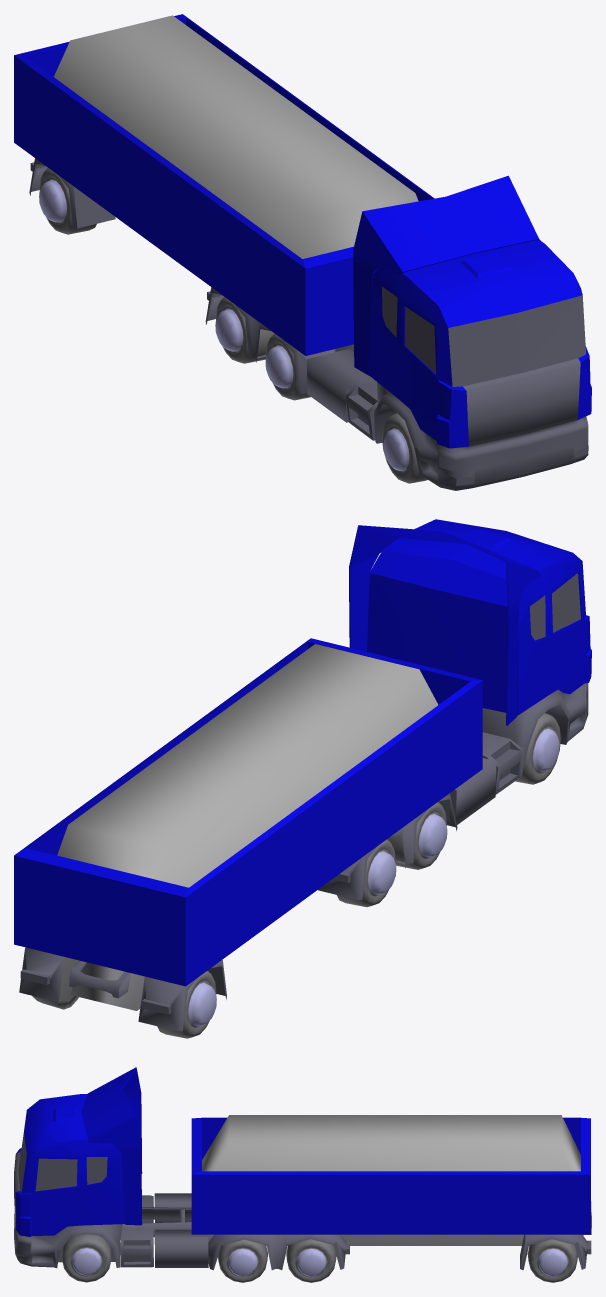
Rendered from truck_v001.fbx.
The picture shows the model from 3 angles, top to bottom: view 1: azimuth 30°, elevation 25°; view 2: azimuth 150°, elevation 25°; view 3: azimuth 270°, elevation 25°; orthographic projection. The views are drawn at different scales.
Visible parts, largest first — view 1: Scania400:pCube1, pCube1, Scania400:Body, Scania400:Plastik, Scania400:Glass, Scania400:Tire9, Plastik, Scania400:Light; view 2: pCube1, Scania400:pCube1, Scania400:Body, Scania400:Plastik, Scania400:Tire9, Plastik, Scania400:Glass, Scania400:pCube2, Scania400:Scania400:Tire; view 3: pCube1, Scania400:pCube1, Scania400:Body, Scania400:Plastik, Scania400:Scania400:Tire, Scania400:pCube2, Scania400:Glass, Plastik.
Boxes of the visible parts, box(x1,y1,x2,y2) form: Scania400:pCube1: box(54, 15, 418, 258); pCube1: box(14, 14, 434, 355); Scania400:Body: box(353, 175, 591, 448); Scania400:Plastik: box(205, 287, 588, 490); Scania400:Glass: box(382, 286, 585, 386); Scania400:Tire9: box(39, 168, 427, 483); Plastik: box(29, 158, 115, 228); Scania400:Light: box(438, 428, 588, 485); pCube1: box(14, 638, 482, 986); Scania400:pCube1: box(57, 644, 438, 887); Scania400:Body: box(349, 519, 591, 725); Scania400:Plastik: box(318, 683, 588, 899); Scania400:Tire9: box(157, 713, 560, 1038); Plastik: box(19, 947, 226, 1031); Scania400:Glass: box(530, 573, 580, 640); Scania400:pCube2: box(70, 960, 144, 1010); Scania400:Scania400:Tire: box(32, 957, 79, 1009); pCube1: box(191, 1117, 590, 1234); Scania400:pCube1: box(202, 1115, 580, 1171); Scania400:Body: box(15, 1067, 142, 1236); Scania400:Plastik: box(14, 1152, 346, 1270); Scania400:Scania400:Tire: box(61, 1234, 577, 1282); Scania400:pCube2: box(208, 1234, 583, 1245); Scania400:Glass: box(18, 1122, 107, 1192); Plastik: box(520, 1212, 591, 1270).
Bounding box in the file's own units: 283 × 379 × 1163.
